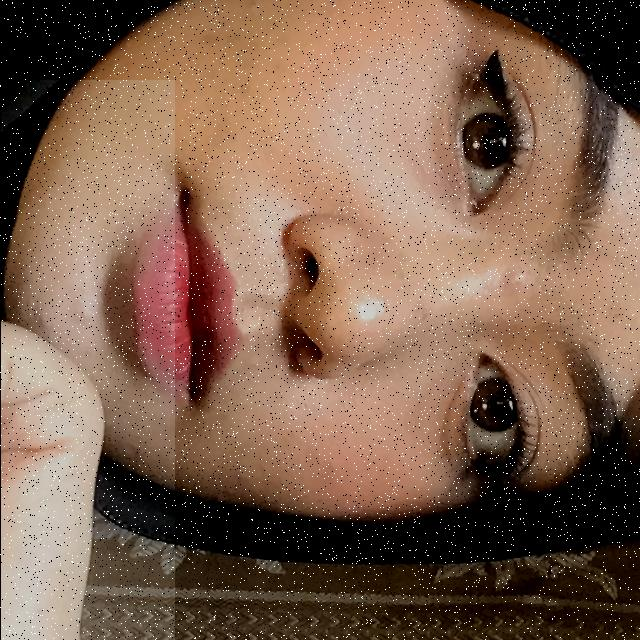sedih: (0, 80, 174, 640)
